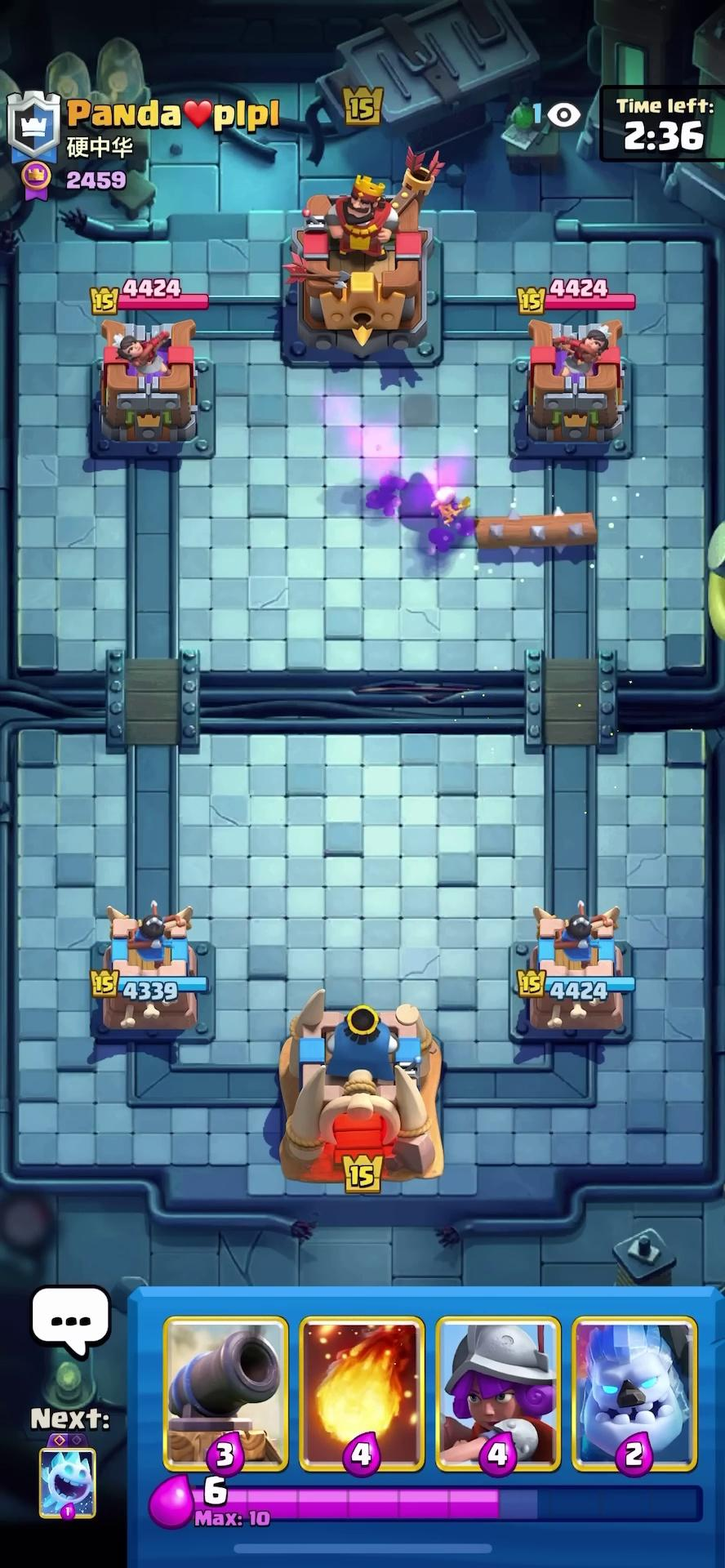log: (471, 506, 602, 551)
skeletons: (431, 478, 471, 533)
